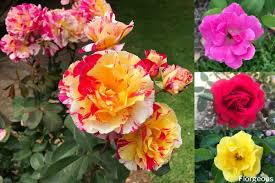lale: (54, 44, 165, 150), (117, 100, 188, 178), (197, 0, 269, 72), (206, 72, 269, 128), (212, 127, 262, 183)
